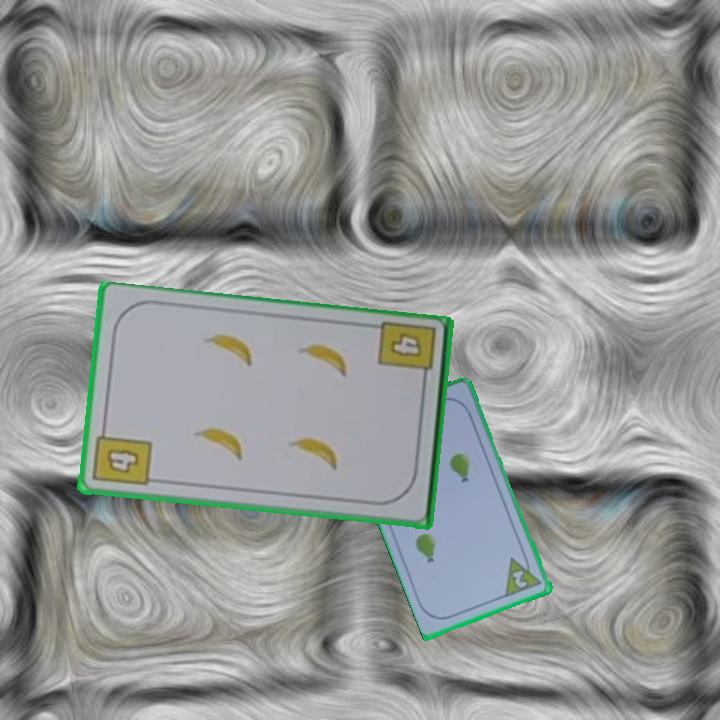2p: (502, 550, 545, 600)
4b: (376, 318, 440, 388), (90, 422, 155, 489)
